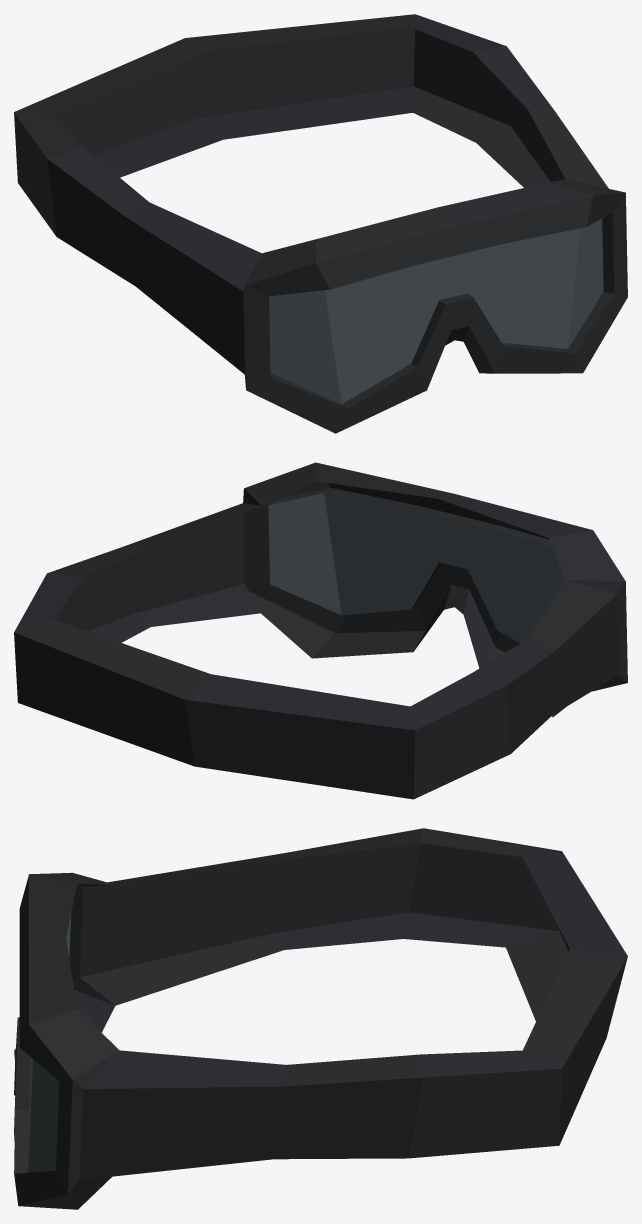
Rendered from SM_Chr_Attach_Goggles_01.fbx.
3 renders of one model, top to bottom at view 1: azimuth 30°, elevation 25°; view 2: azimuth 150°, elevation 25°; view 3: azimuth 270°, elevation 25°, orthographic. The views are drawn at different scales.
Visible parts, largest first — view 1: SM_Chr_Attach_Goggles_01; view 2: SM_Chr_Attach_Goggles_01; view 3: SM_Chr_Attach_Goggles_01.
Part boxes in pixels (bbox=[...]): SM_Chr_Attach_Goggles_01: bbox=[14, 14, 627, 433]; SM_Chr_Attach_Goggles_01: bbox=[14, 462, 627, 799]; SM_Chr_Attach_Goggles_01: bbox=[14, 828, 627, 1209].
Size of the model in its own units: 27.03 by 10.41 by 28.13.
